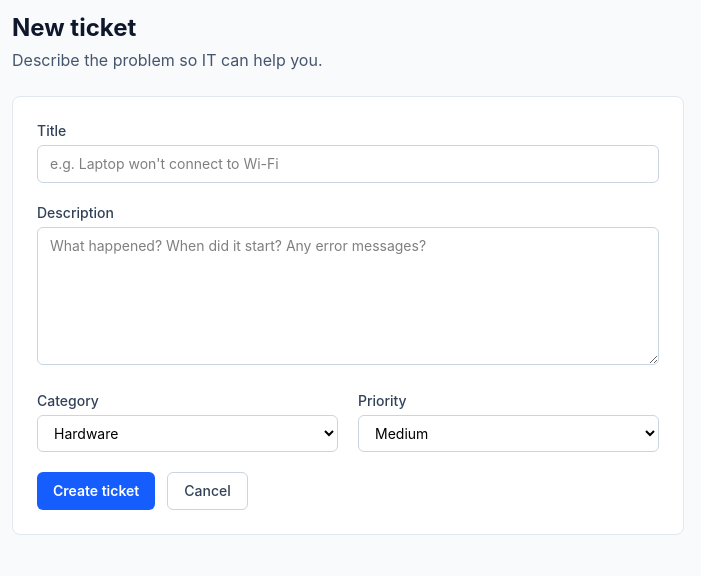
Test: NewTicketPage › rejects a title that is too short
The image size is (701, 576).
Type "Help" into the field labelled "Title" at (348, 164), box top-left (37, 145), bottom-right (659, 183)
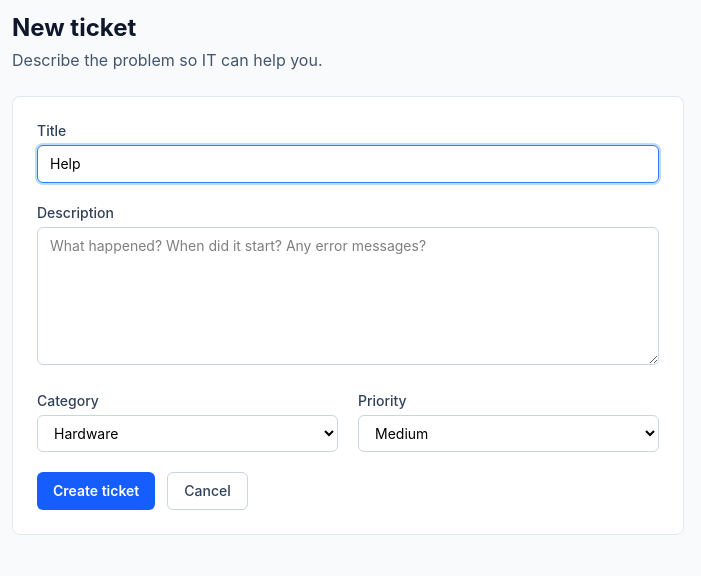
Type "Something broke" into the text box labelled "Description" at (348, 296), box top-left (37, 227), bottom-right (659, 365)
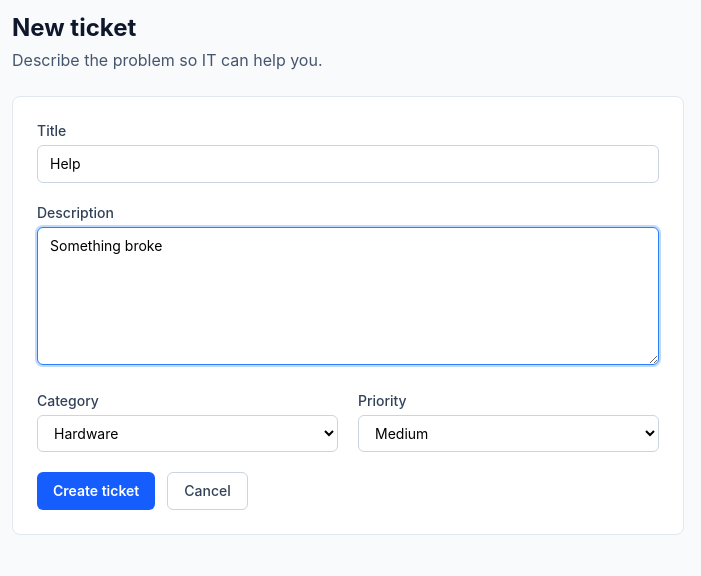
Click the button "Create ticket" at (96, 491), box top-left (37, 472), bottom-right (155, 510)
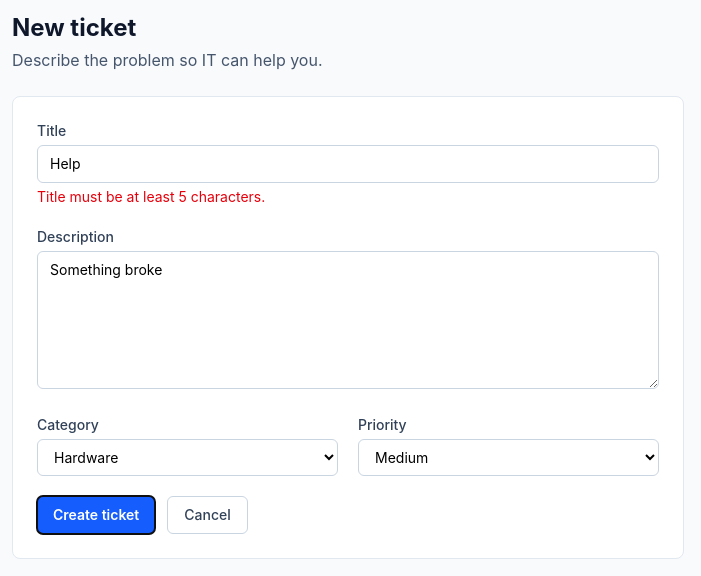
Check: the text "Title must be at least 5 characters." is shown, box top-left (37, 188), bottom-right (265, 205)
